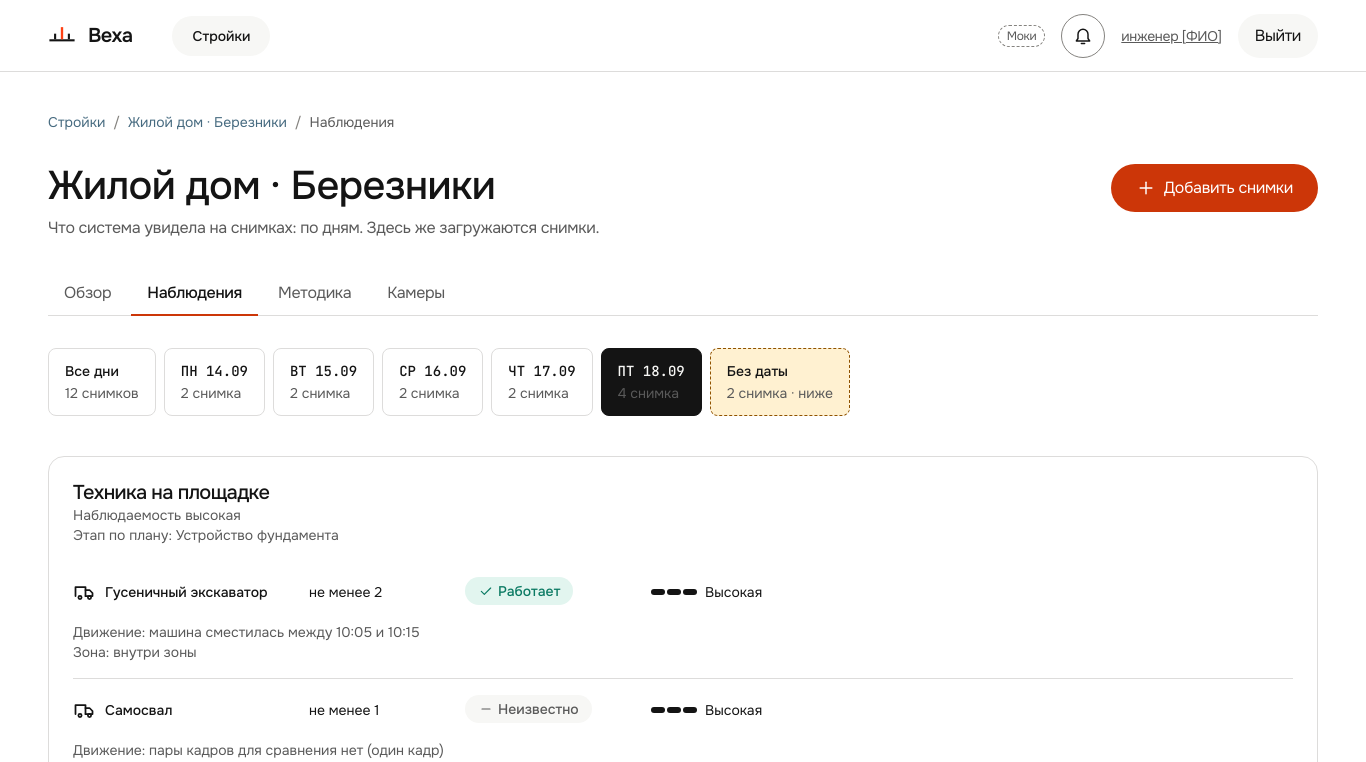
Test: ObservationsPage › asks to add a camera first when the site has none
The image size is (1366, 762).
What coordinates should you click on to do the following:
click the button "Добавить снимки"
I would click on:
 (1214, 188)
Its box is [1111,164,1318,212].
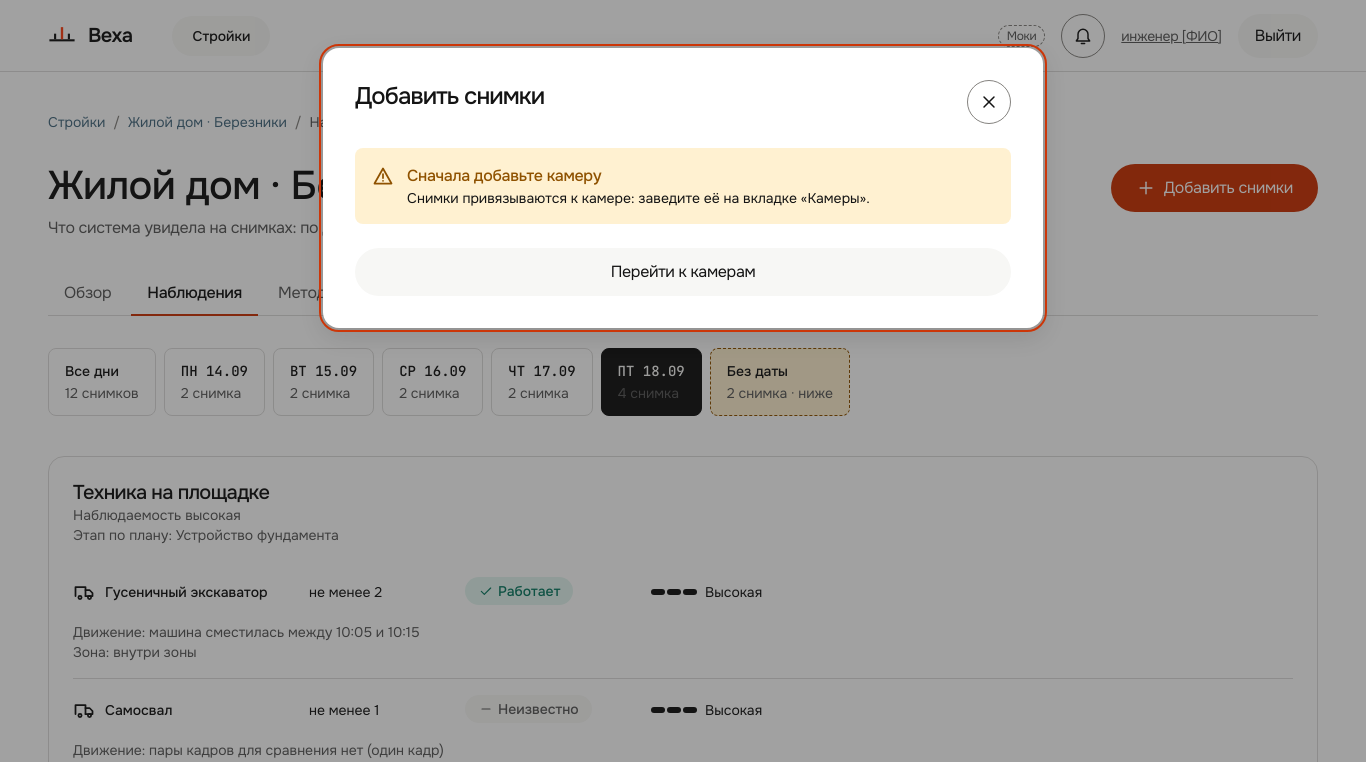
Expected: the text "Сначала добавьте камеру" is shown, [407,165,601,186]
